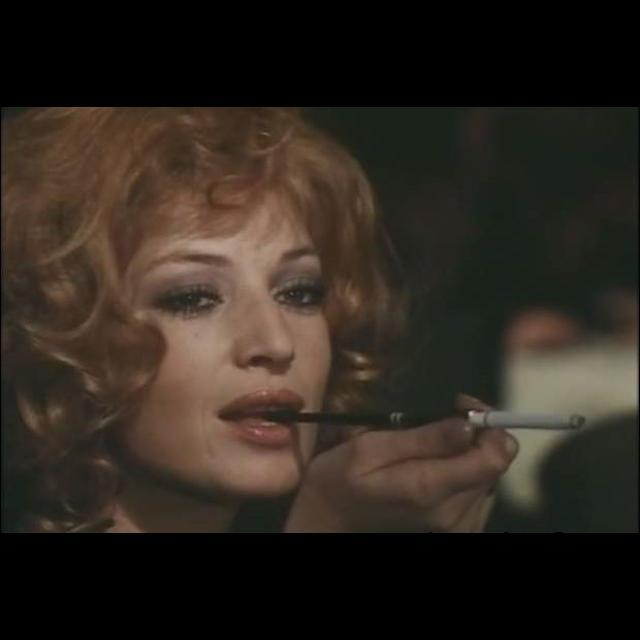rokok: (470, 400, 592, 440)
